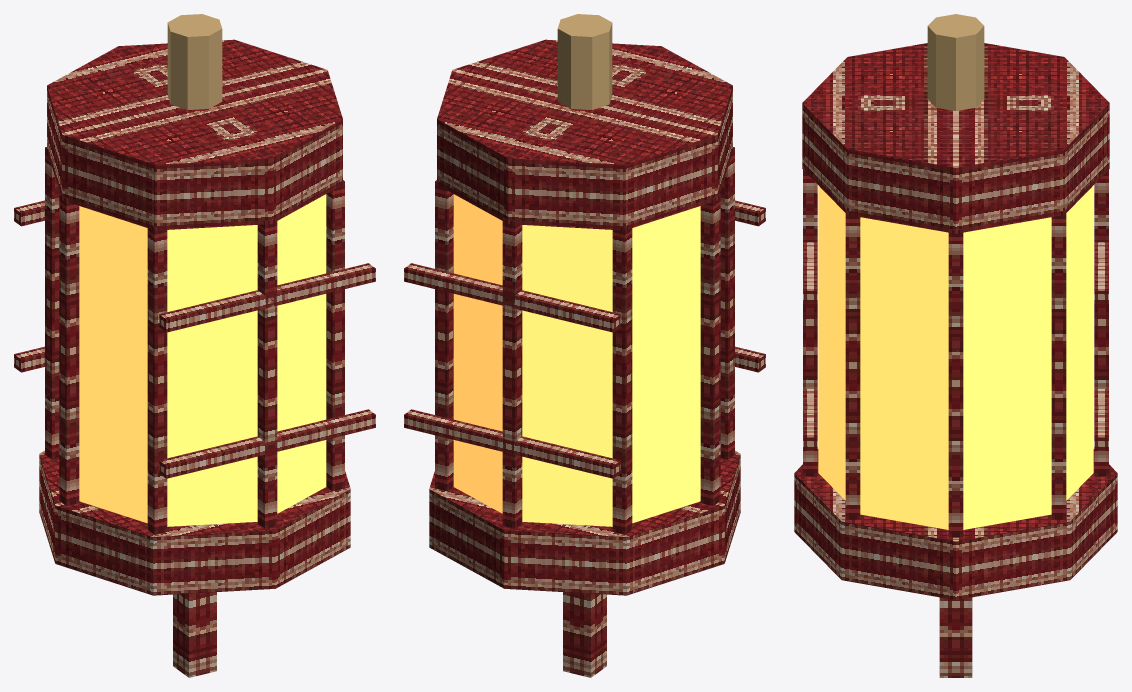
Rendered from lantern.glb.
3 views of the same model, side by side, from view 1: azimuth 30°, elevation 25°; view 2: azimuth 150°, elevation 25°; view 3: azimuth 270°, elevation 25° (orthographic).
Visible parts, largest first — view 1: lantern_canal_red, lantern_canal_paper, lantern_canal_brass; view 2: lantern_canal_red, lantern_canal_paper, lantern_canal_brass; view 3: lantern_canal_red, lantern_canal_paper, lantern_canal_brass.
Part boxes in pixels (left/top/right/bottom): lantern_canal_red: left=14, top=39, right=375, bottom=677; lantern_canal_paper: left=79, top=194, right=326, bottom=526; lantern_canal_brass: left=167, top=14, right=222, bottom=109; lantern_canal_red: left=404, top=39, right=765, bottom=677; lantern_canal_paper: left=453, top=194, right=700, bottom=526; lantern_canal_brass: left=557, top=14, right=612, bottom=109; lantern_canal_red: left=794, top=43, right=1117, bottom=677; lantern_canal_paper: left=818, top=185, right=1093, bottom=529; lantern_canal_brass: left=927, top=14, right=984, bottom=110.
Size of the model in its own units: 0.4 by 0.88 by 0.4.
3 materials, 1 textured.
